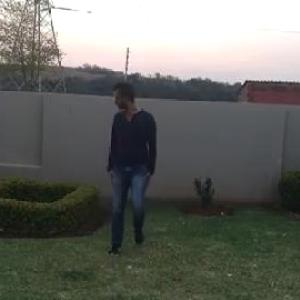follow: (104, 79, 157, 262)
